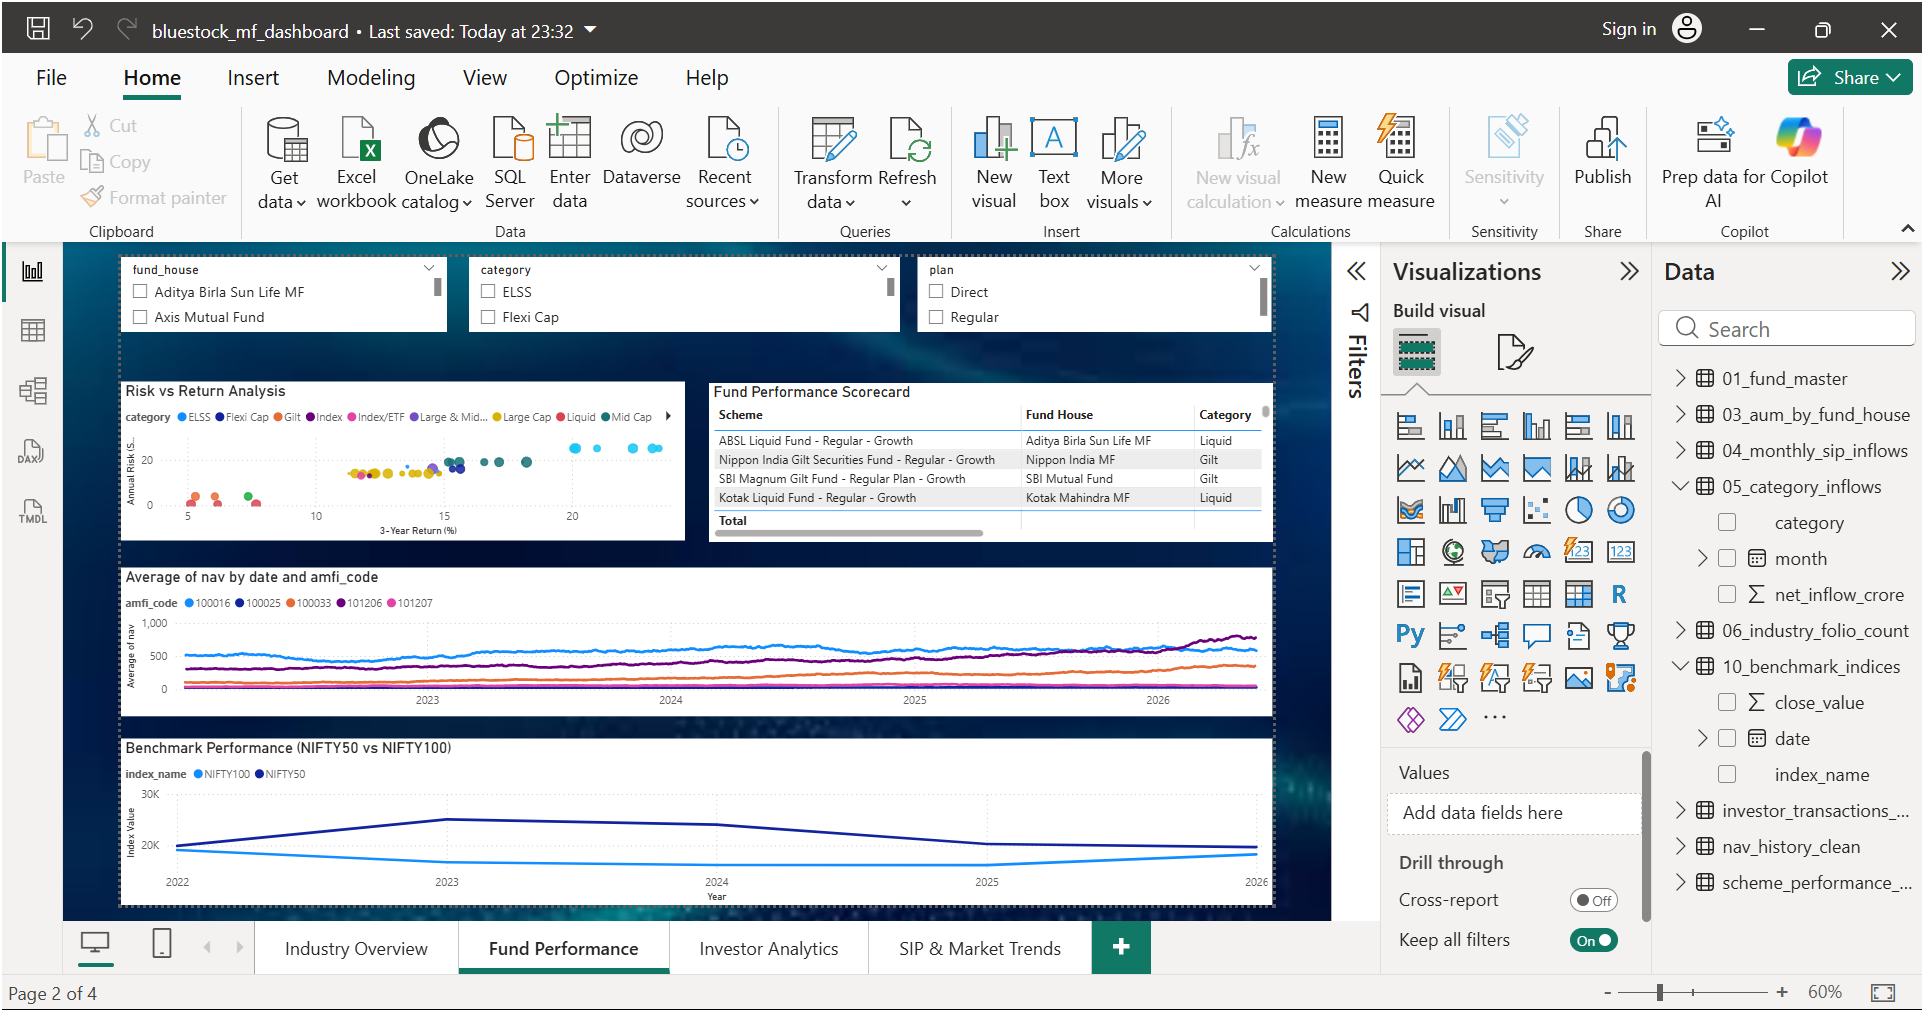

What the dashboard file says about the page in this screenshot:
{"tool":"powerbi","page":{"name":"Fund Performance","canvas":[1280,720],"ordinal":1},"visuals":[{"type":"scatterChart","title":"Risk vs Return Analysis","fields":{"X":["scheme_performance_clean.return_3yr_pct"],"Y":["scheme_performance_clean.std_dev_ann_pct"],"Size":["Sum(scheme_performance_clean.aum_crore)"],"Series":["scheme_performance_clean.category"]},"box":[0,137.6,626.6,176.5],"z":0},{"type":"tableEx","title":"Fund Performance Scorecard","fields":{"Values":["scheme_performance_clean.scheme_name","scheme_performance_clean.fund_house","scheme_performance_clean.category","Sum(scheme_performance_clean.return_3yr_pct)","Sum(scheme_performance_clean.sharpe_ratio)","Sum(scheme_performance_clean.alpha)","Sum(scheme_performance_clean.beta)","Sum(scheme_performance_clean.expense_ratio_pct)","Sum(scheme_performance_clean.max_drawdown_pct)"]},"box":[652.5,139.3,628.3,176.5],"z":1000},{"type":"lineChart","fields":{"Category":["nav_history_clean.date"],"Y":["Avg(nav_history_clean.nav)"],"Series":["nav_history_clean.amfi_code"]},"box":[0,344.9,1279.2,165.2],"z":2000},{"type":"lineChart","title":"Benchmark Performance (NIFTY50 vs NIFTY100)","fields":{"Category":["10_benchmark_indices.date.Variation.Date Hierarchy.Year","10_benchmark_indices.date.Variation.Date Hierarchy.Quarter","10_benchmark_indices.date.Variation.Date Hierarchy.Month","10_benchmark_indices.date.Variation.Date Hierarchy.Day"],"Y":["Avg(10_benchmark_indices.close_value)"],"Series":["10_benchmark_indices.index_name"]},"box":[0,534.3,1279.2,186.2],"z":3000},{"type":"slicer","fields":{"Values":["scheme_performance_clean.fund_house"]},"box":[0,0,361.1,82.6],"z":4000},{"type":"slicer","fields":{"Values":["scheme_performance_clean.category"]},"box":[387,0,477.7,82.6],"z":5000},{"type":"slicer","fields":{"Values":["scheme_performance_clean.plan"]},"box":[885.7,0,393.5,82.6],"z":6000}]}

Visuals, with their boxes on the page's 1280x720 design canvas (x1, y1, x2, y2). These are canvas units, not pixel positions in the 1924x1012 screenshot, which may show the page scaled, cropped or inside an application window:
"Risk vs Return Analysis" scatterChart: 0:138:627:314
"Fund Performance Scorecard" tableEx: 652:139:1281:316
lineChart - nav_history_clean.date x Avg(nav_history_clean.nav): 0:345:1279:510
"Benchmark Performance (NIFTY50 vs NIFTY100)" lineChart: 0:534:1279:720
slicer - scheme_performance_clean.fund_house: 0:0:361:83
slicer - scheme_performance_clean.category: 387:0:865:83
slicer - scheme_performance_clean.plan: 886:0:1279:83
